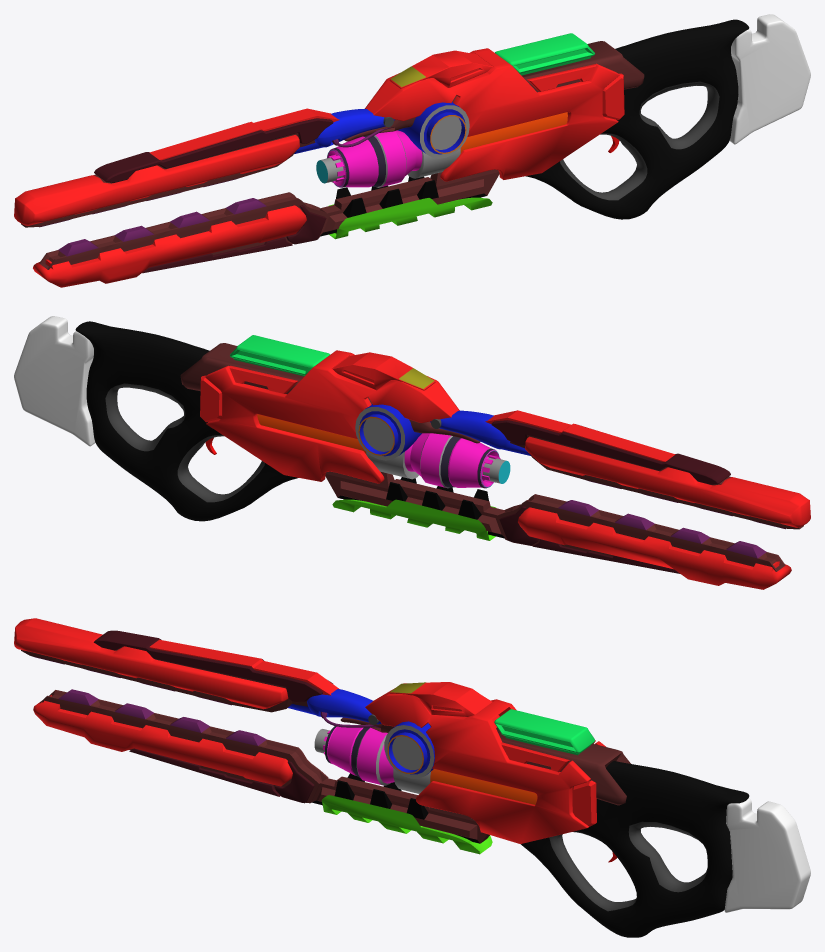
The model's file is Progeny MG V4_high 1.FBX.
The picture shows the model from 3 angles, top to bottom: view 1: azimuth 30°, elevation 25°; view 2: azimuth 150°, elevation 25°; view 3: azimuth 330°, elevation 25°; orthographic projection.
Visible parts, largest first — view 1: Stock HQ, Line009, Line006, Line017, Line015, Line018, Cylinder001, Line016, Cylinder002, ChamferBox004, Line012, Red Dot Hood (+7 smaller); view 2: Stock HQ, Line009, Line006, Line017, Line015, Line018, Cylinder001, Line016, Cylinder002, Line012, ChamferBox004, ChamferBox002 (+7 smaller); view 3: Stock HQ, Line009, Line006, Line015, Line017, Line018, Cylinder001, Line016, ChamferBox004, ChamferBox002, Line012, Cylinder002 (+7 smaller).
Part boxes in pixels (x1,y1,x2,y2): Stock HQ: (526, 19, 749, 219); Line009: (365, 48, 619, 181); Line006: (39, 169, 499, 269); Line017: (14, 135, 299, 225); Line015: (729, 14, 810, 144); Line018: (33, 205, 306, 287); Cylinder001: (316, 112, 567, 187); Line016: (94, 118, 333, 182); Cylinder002: (397, 102, 469, 158); ChamferBox004: (495, 33, 594, 75); Line012: (328, 197, 492, 239); Red Dot Hood: (389, 50, 492, 88); Stock HQ: (75, 321, 298, 521); Line009: (205, 350, 459, 483); Line006: (325, 471, 785, 571); Line017: (525, 436, 810, 527); Line015: (14, 316, 95, 446); Line018: (518, 507, 791, 589); Cylinder001: (257, 414, 510, 488); Line016: (491, 420, 730, 484); Cylinder002: (355, 404, 421, 460); Line012: (332, 499, 495, 540); ChamferBox004: (230, 335, 330, 376); ChamferBox002: (180, 343, 480, 443); Stock HQ: (521, 761, 749, 937); Line009: (365, 683, 605, 843); Line006: (39, 689, 489, 843); Line015: (724, 798, 810, 912); Line017: (14, 618, 288, 709); Line018: (33, 695, 292, 786); Cylinder001: (314, 726, 537, 804); Line016: (94, 630, 332, 702); ChamferBox004: (494, 709, 595, 755); ChamferBox002: (340, 717, 630, 805); Line012: (321, 795, 492, 854); Cylinder002: (384, 721, 434, 778).
Bounding box in the file's own units: 116 × 28.42 × 10.87.
